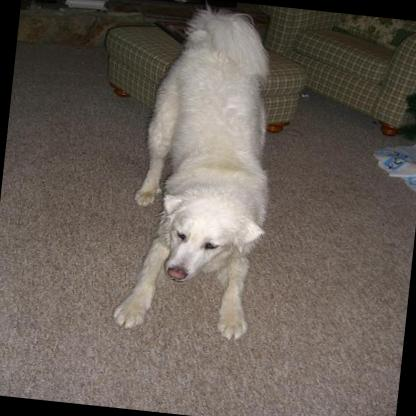Great_Pyrenees: (105, 0, 289, 341)
